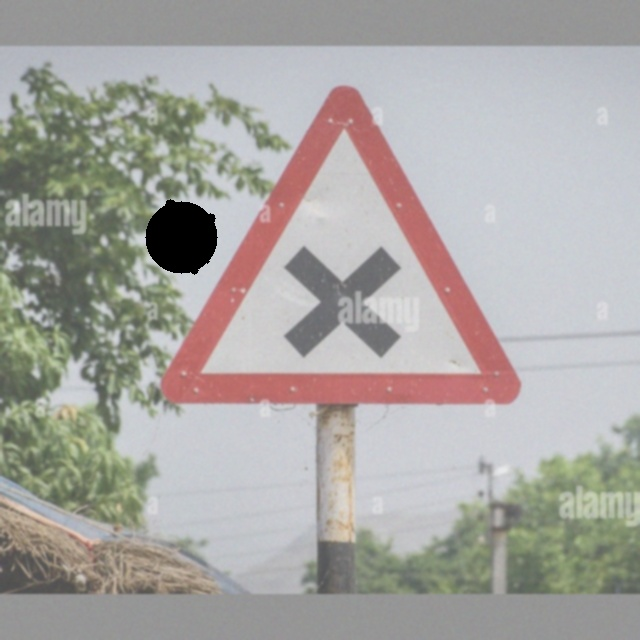Cross_Road: (160, 83, 525, 403)
